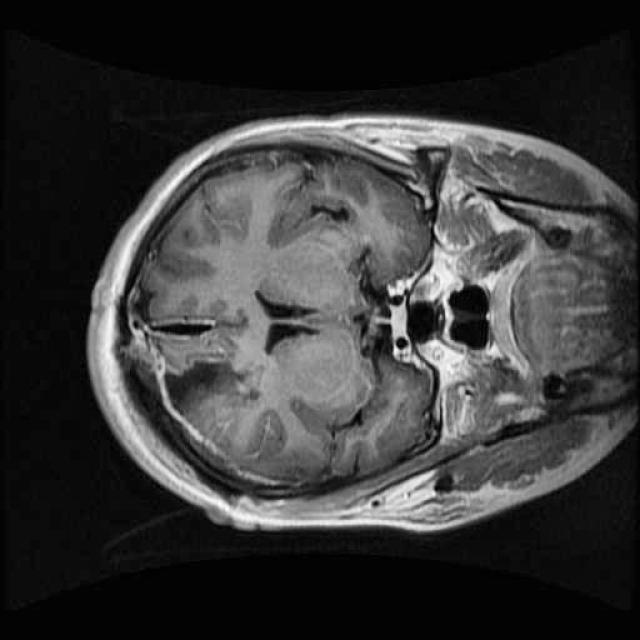Non-Tumor: (135, 329, 275, 476)
